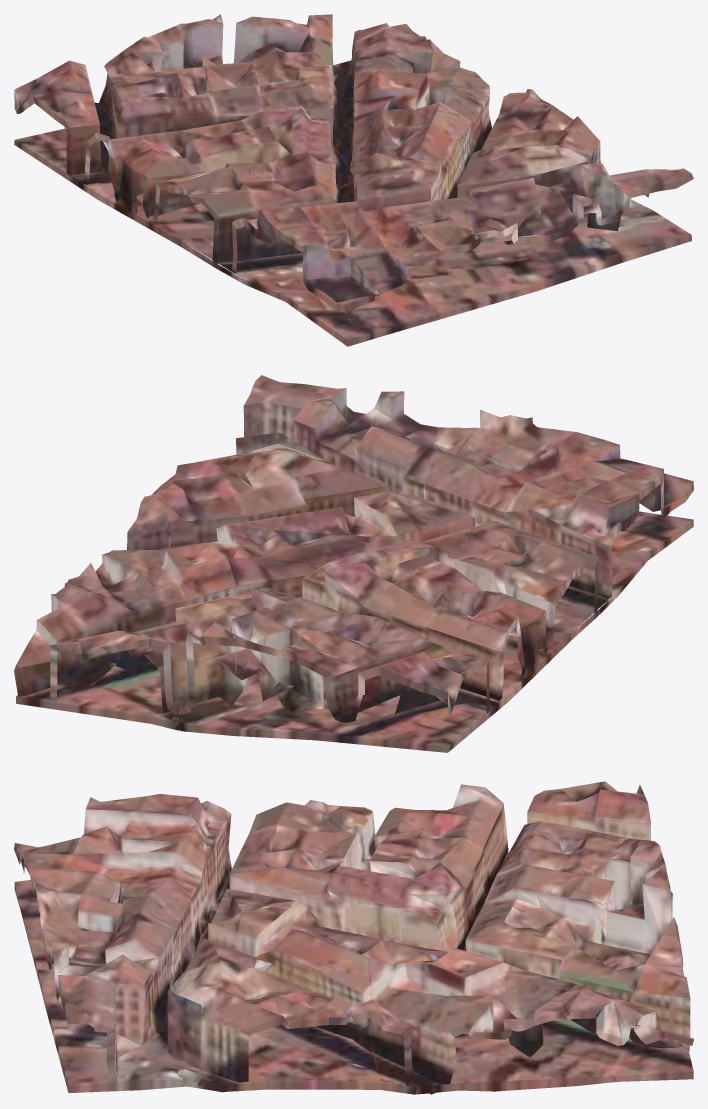
3 renders of one model, top to bottom at view 1: azimuth 30°, elevation 25°; view 2: azimuth 150°, elevation 25°; view 3: azimuth 270°, elevation 25°, orthographic. The views are drawn at different scales.
Parts seen in each view (by area): view 1: Mesh_0; view 2: Mesh_0; view 3: Mesh_0.
Boxes of the visible parts, box(x1,y1,x2,y2) form: Mesh_0: box(14, 14, 693, 346); Mesh_0: box(14, 375, 693, 752); Mesh_0: box(14, 781, 693, 1094).
Bounding box in the file's own units: 134 × 30.01 × 165.
1 material, 1 textured.
